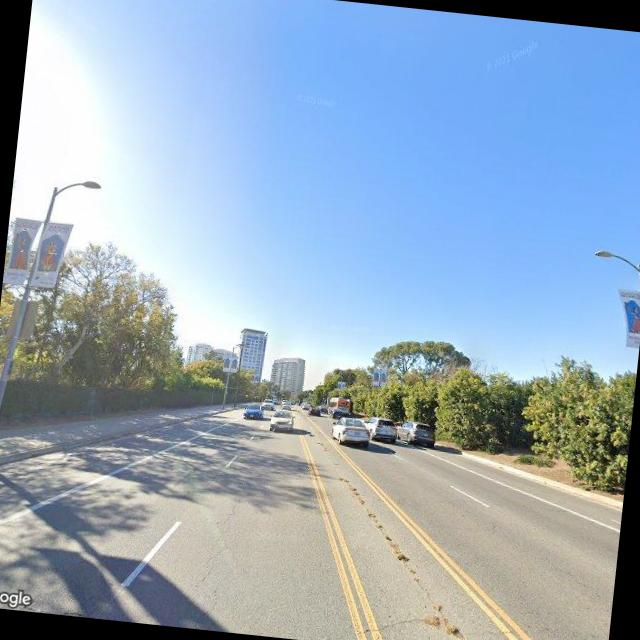pothole: (192, 488, 242, 600)
